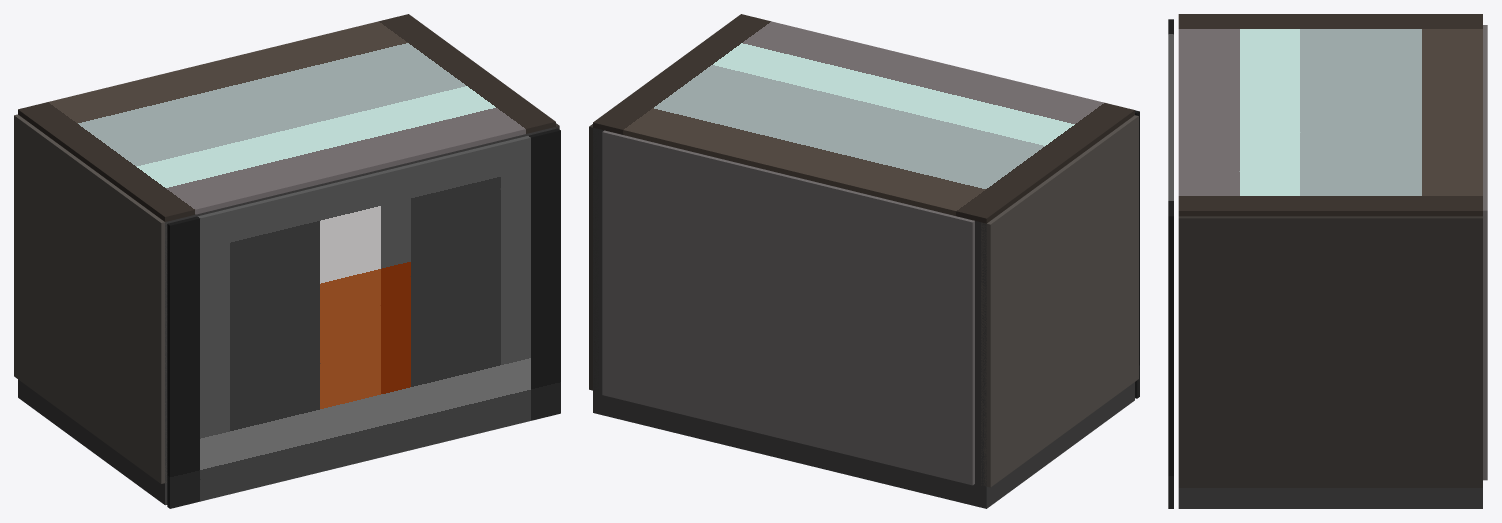
The model's file is CMU3DRMCBoxPillCanister.glb.
The picture shows the model from 3 angles, left to right: view 1: azimuth 30°, elevation 25°; view 2: azimuth 150°, elevation 25°; view 3: azimuth 270°, elevation 25°; orthographic projection. The views are drawn at different scales.
Visible parts, largest first — view 1: Front source artwork, Top source artwork, left folded seam, folded dark carton; view 2: rear closure flap, Top source artwork, left folded seam, folded dark carton, right folded seam; view 3: right folded seam, Top source artwork, folded dark carton, Front source artwork, rear closure flap.
Part boxes in pixels (left/top/right/bottom): Front source artwork: left=167, top=128, right=560, bottom=508; Top source artwork: left=18, top=14, right=555, bottom=221; left folded seam: left=14, top=114, right=167, bottom=483; folded dark carton: left=18, top=127, right=555, bottom=505; rear closure flap: left=602, top=130, right=974, bottom=485; Top source artwork: left=593, top=14, right=1134, bottom=223; left folded seam: left=981, top=115, right=1138, bottom=487; folded dark carton: left=593, top=127, right=1134, bottom=508; right folded seam: left=589, top=124, right=598, bottom=390; right folded seam: left=1178, top=216, right=1482, bottom=487; Top source artwork: left=1178, top=14, right=1482, bottom=216; folded dark carton: left=1178, top=488, right=1482, bottom=508; Front source artwork: left=1168, top=19, right=1173, bottom=508; rear closure flap: left=1483, top=25, right=1487, bottom=480.
Bounding box in the file's own units: 0.4143 × 0.2863 × 0.278.
Materials: 6 (2 with a texture image).
